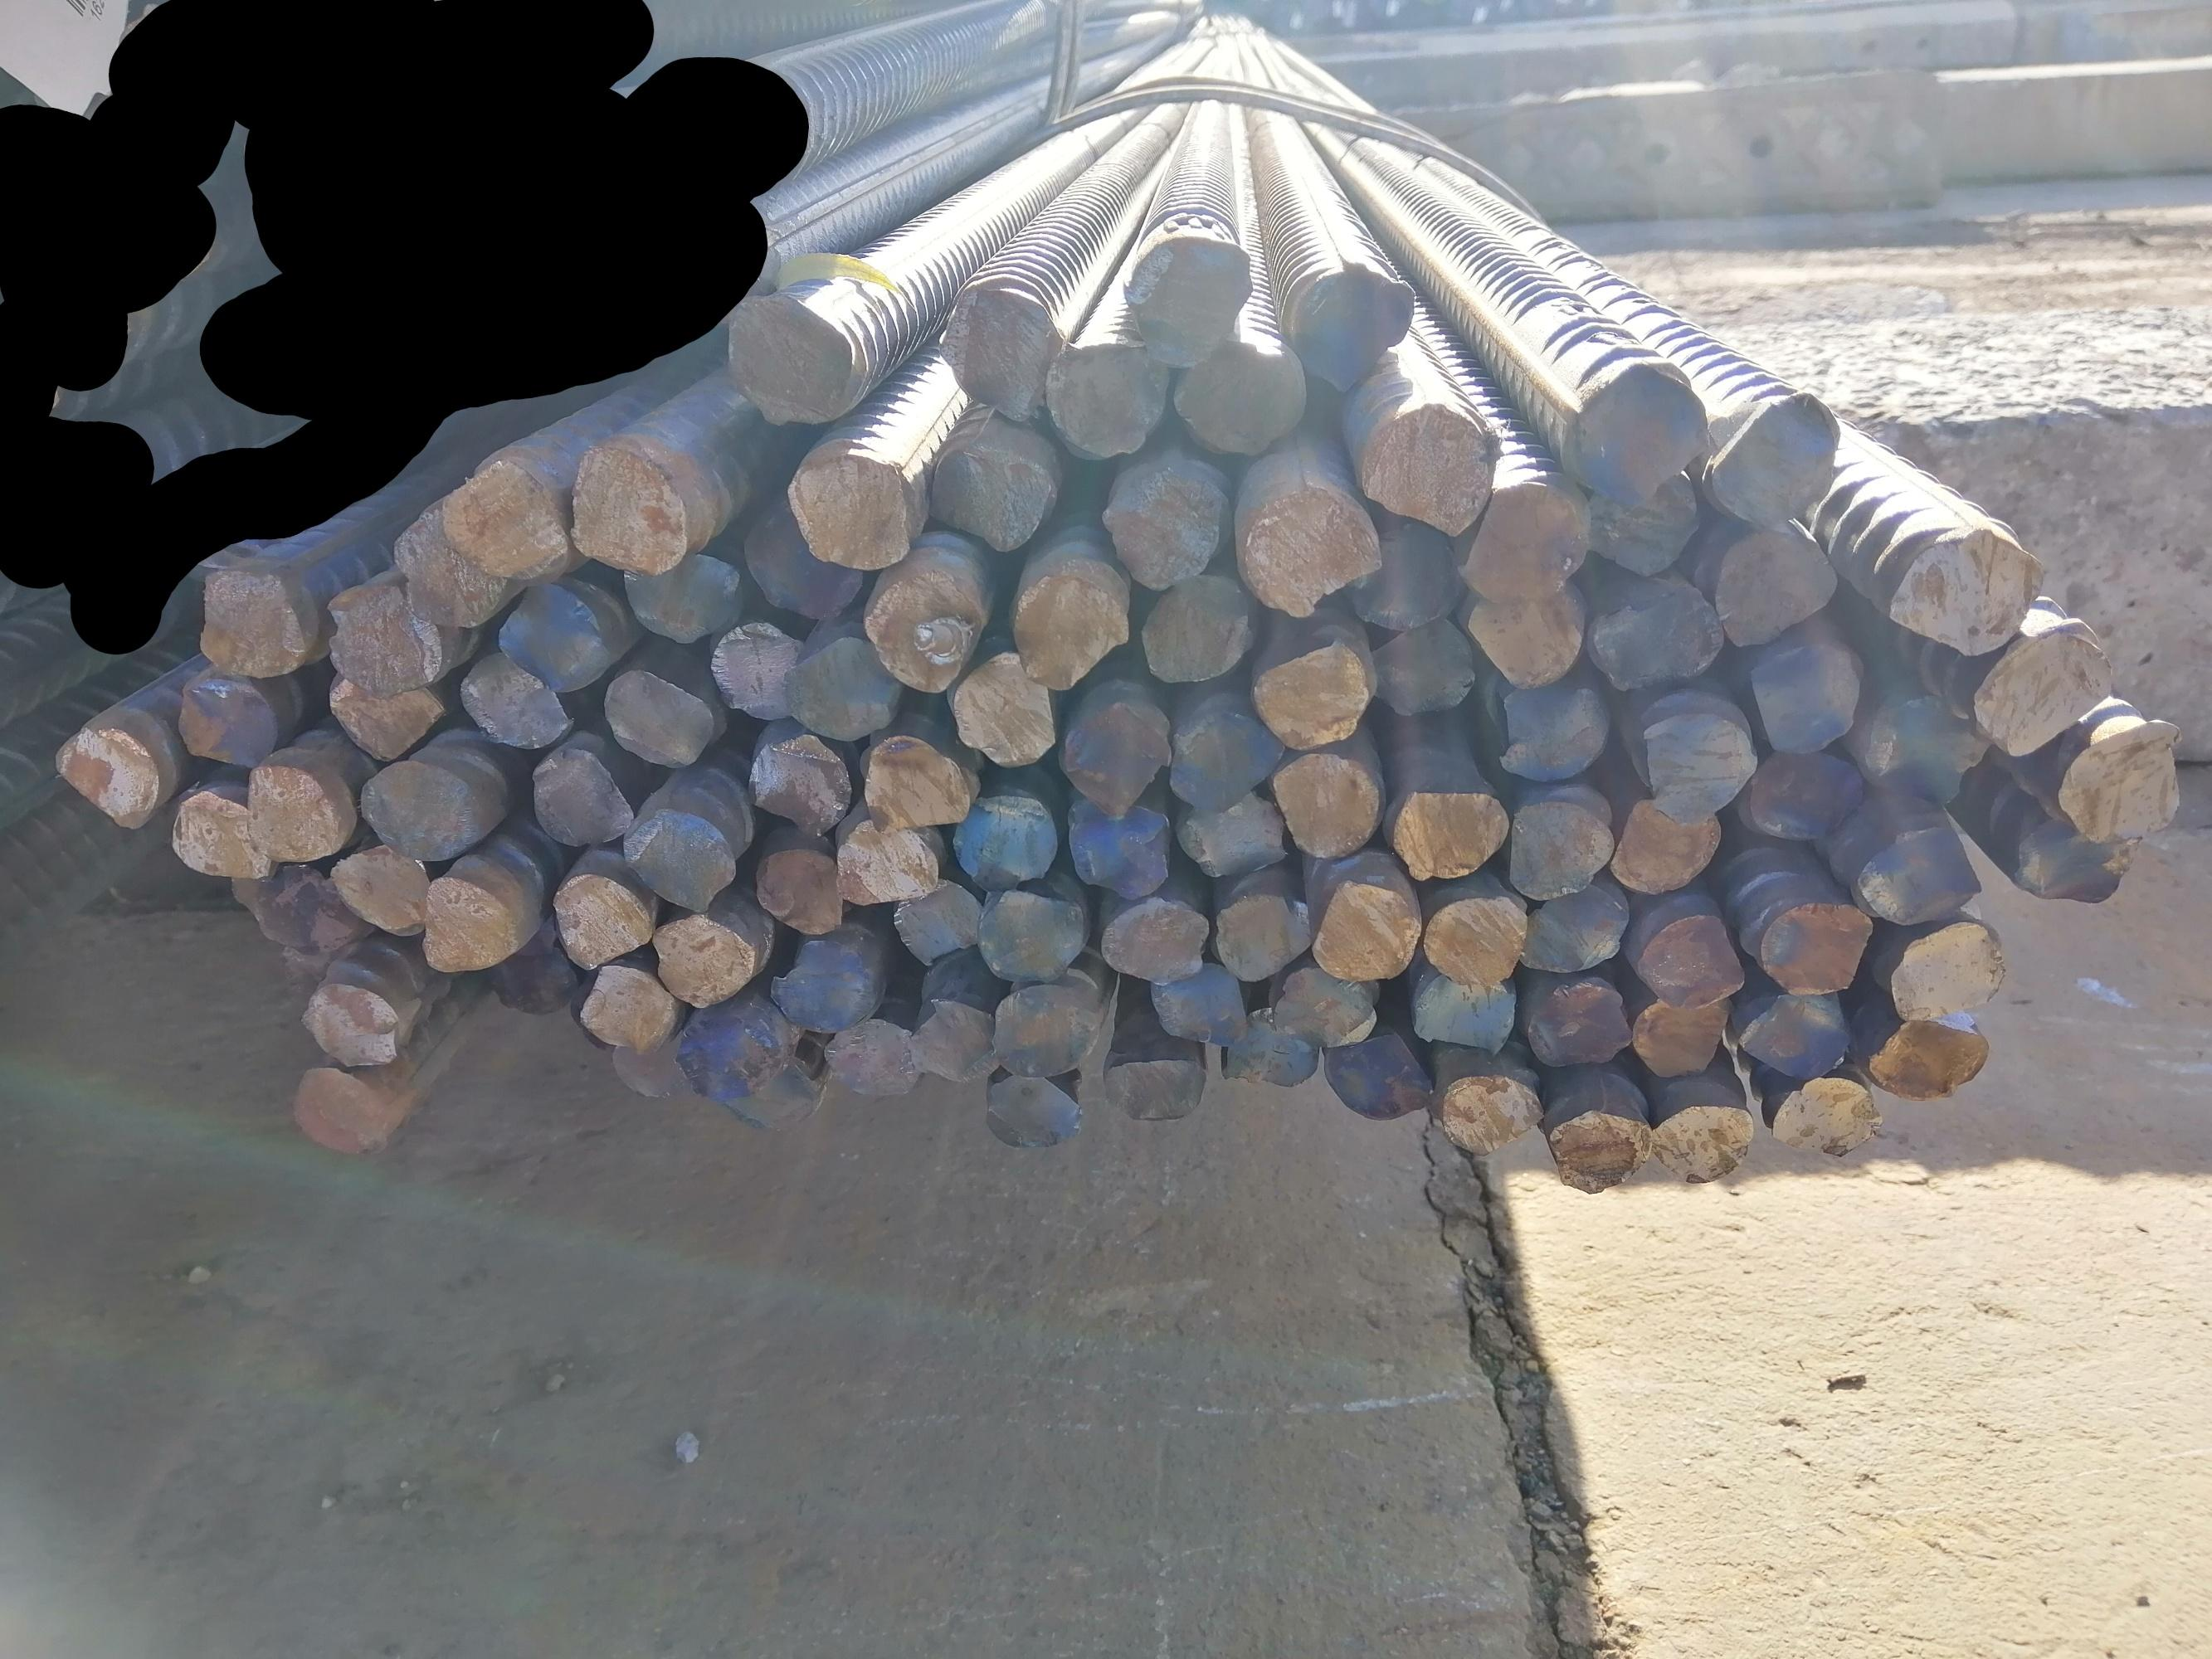bar: (1564, 356, 1715, 511), (1886, 523, 2043, 660), (1238, 483, 1381, 620), (1700, 389, 1841, 526), (1970, 631, 2114, 762), (1578, 565, 1729, 688), (1121, 232, 1255, 368), (1358, 397, 1490, 535), (727, 289, 854, 430), (934, 284, 1060, 427), (1166, 338, 1309, 462), (439, 458, 573, 589), (1712, 516, 1842, 650), (1288, 261, 1415, 399), (861, 565, 992, 695), (781, 443, 915, 570), (2048, 716, 2186, 840), (739, 495, 865, 627), (1853, 690, 1996, 805), (570, 443, 690, 577), (390, 504, 506, 638), (1102, 462, 1222, 589), (1578, 462, 1705, 579), (1747, 627, 1862, 755), (324, 577, 443, 697), (492, 575, 612, 694), (1640, 711, 1761, 829), (1046, 340, 1170, 455), (1014, 570, 1130, 694), (1459, 488, 1586, 598), (1853, 828, 1987, 929), (1060, 699, 1173, 817), (1347, 519, 1466, 633), (1469, 579, 1590, 690), (931, 448, 1055, 556), (948, 652, 1062, 767), (1253, 640, 1370, 751), (1140, 570, 1259, 680), (225, 859, 364, 951), (195, 563, 305, 680), (619, 803, 737, 911), (1494, 678, 1614, 784), (1272, 748, 1384, 859), (1166, 711, 1283, 817), (458, 648, 577, 753), (1635, 906, 1748, 1014), (763, 932, 882, 1035), (1888, 920, 2010, 1019), (1745, 744, 1869, 842), (49, 727, 155, 840), (619, 549, 741, 647), (530, 744, 638, 854), (784, 629, 896, 735), (241, 760, 354, 864), (410, 873, 521, 978), (361, 760, 476, 861), (1065, 796, 1175, 901), (1761, 897, 1874, 999), (1504, 795, 1611, 901), (605, 666, 715, 769), (861, 730, 971, 833), (1389, 788, 1508, 882), (647, 911, 757, 1012), (1311, 882, 1421, 983), (2017, 816, 2135, 908), (164, 789, 270, 890), (326, 674, 444, 765), (1372, 615, 1482, 713), (1421, 894, 1530, 992), (547, 871, 654, 971), (1614, 795, 1720, 894), (830, 816, 941, 910), (1175, 786, 1288, 878), (746, 734, 851, 833), (950, 793, 1056, 890), (1736, 993, 1855, 1080), (1321, 1032, 1436, 1121), (174, 673, 275, 774), (676, 1009, 781, 1107), (1211, 887, 1316, 985), (1865, 1019, 1992, 1100), (1522, 882, 1632, 974), (713, 615, 805, 723), (1544, 1103, 1652, 1195), (1768, 1073, 1881, 1161), (1652, 1101, 1761, 1192), (988, 983, 1089, 1079), (1527, 979, 1630, 1073), (978, 890, 1082, 983), (295, 985, 403, 1073), (1100, 897, 1210, 985), (333, 843, 431, 941), (288, 1068, 394, 1157), (1271, 965, 1382, 1049), (577, 962, 680, 1053), (1407, 974, 1515, 1058), (889, 871, 985, 965), (819, 1012, 922, 1100), (1147, 960, 1246, 1049), (1431, 1077, 1541, 1154), (1635, 992, 1731, 1079), (1217, 1007, 1318, 1089), (720, 1056, 823, 1136), (912, 995, 1002, 1086), (753, 847, 845, 936), (479, 932, 577, 1016), (1098, 1053, 1206, 1124), (985, 1073, 1086, 1145), (608, 1037, 687, 1100)
